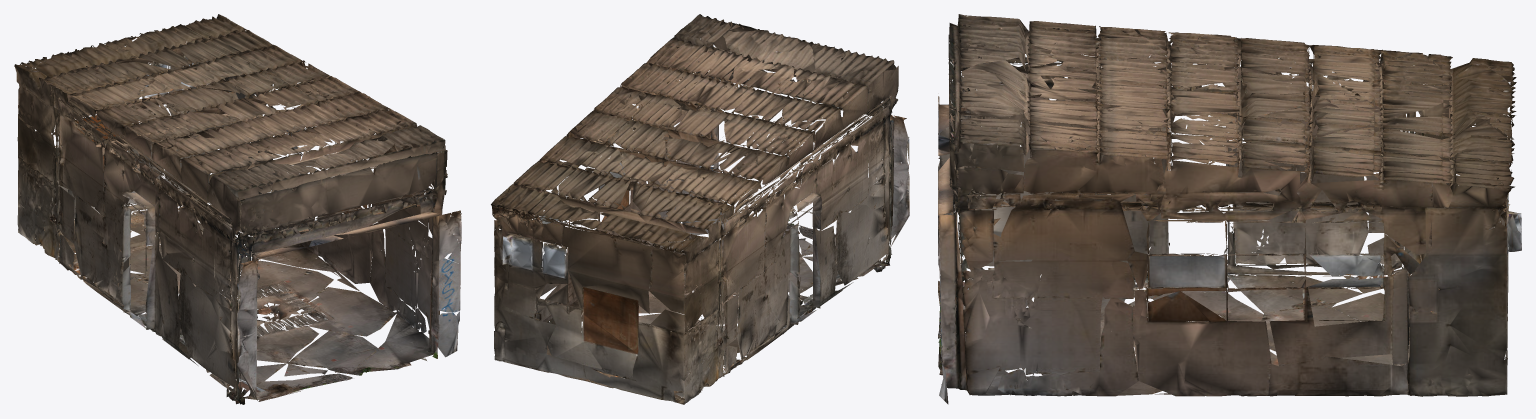
The model's file is scanned_interior.glb.
3 views of the same model, side by side, from view 1: azimuth 30°, elevation 25°; view 2: azimuth 150°, elevation 25°; view 3: azimuth 270°, elevation 25° (orthographic). The views are drawn at different scales.
Visible parts, largest first — view 1: Object_4, Object_2, Object_3, Object_5, Object_6; view 2: Object_2, Object_3, Object_4, Object_5, Object_6; view 3: Object_3, Object_4, Object_2, Object_5, Object_6.
Part boxes in pixels (x1=…): Object_4: x1=14, y1=14, x2=460, y2=404; Object_2: x1=18, y1=20, x2=455, y2=401; Object_3: x1=17, y1=24, x2=461, y2=400; Object_5: x1=16, y1=19, x2=461, y2=404; Object_6: x1=35, y1=28, x2=439, y2=396; Object_2: x1=498, y1=24, x2=898, y2=400; Object_3: x1=491, y1=14, x2=909, y2=404; Object_4: x1=491, y1=21, x2=908, y2=388; Object_5: x1=492, y1=30, x2=900, y2=386; Object_6: x1=535, y1=27, x2=891, y2=400; Object_3: x1=938, y1=14, x2=1521, y2=404; Object_4: x1=938, y1=24, x2=1519, y2=396; Object_2: x1=938, y1=20, x2=1521, y2=394; Object_5: x1=938, y1=28, x2=1516, y2=395; Object_6: x1=941, y1=48, x2=1521, y2=396.
Size of the model in its own units: 110 by 102 by 200.
1 material, 1 textured.
